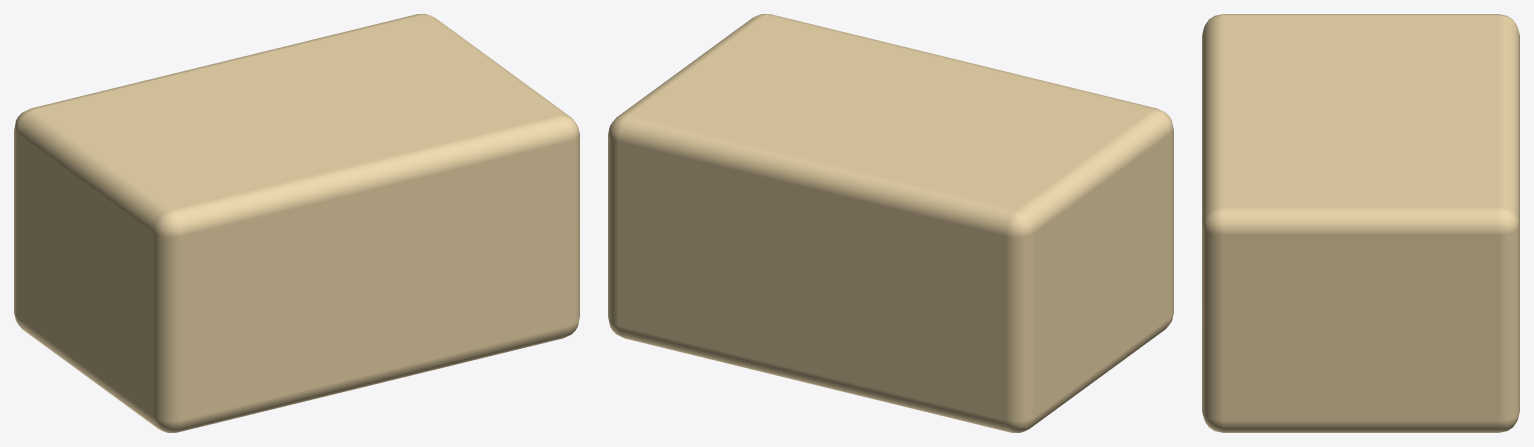
Rendered from block_cream.glb.
The picture shows the model from 3 angles, left to right: view 1: azimuth 30°, elevation 25°; view 2: azimuth 150°, elevation 25°; view 3: azimuth 270°, elevation 25°; orthographic projection.
Visible parts, largest first — view 1: block_cream; view 2: block_cream; view 3: block_cream.
Boxes of the visible parts, x1,y1,x2,y2 form: block_cream: (14,14,579,432); block_cream: (608,14,1173,432); block_cream: (1202,14,1519,432).
Bounding box in the file's own units: 0.07 × 0.035 × 0.045.
